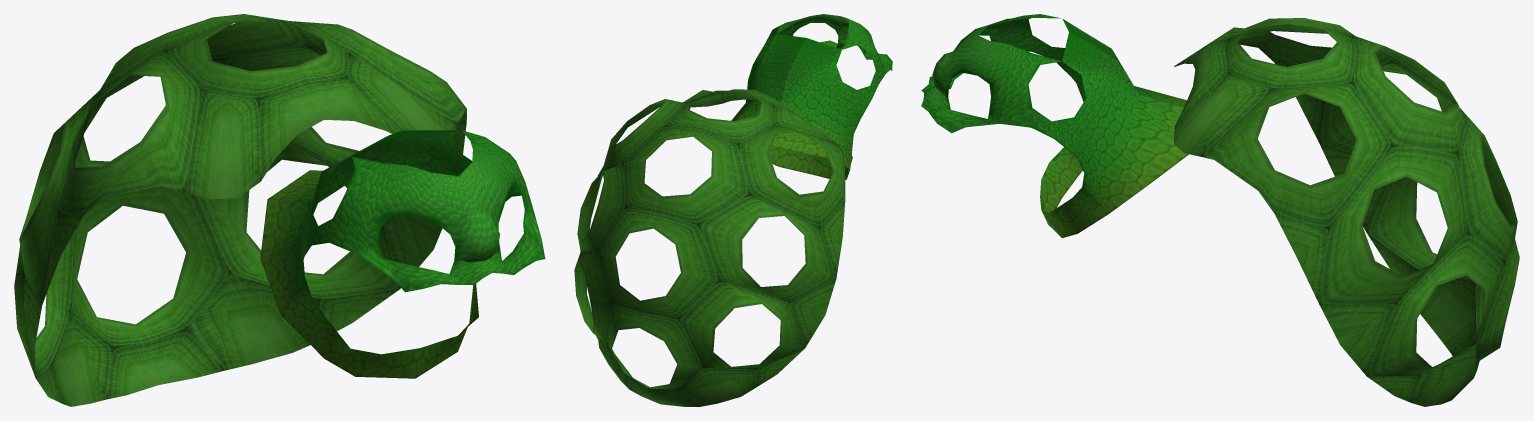
File: bowser1.obj
3 renders of one model, left to right at view 1: azimuth 30°, elevation 25°; view 2: azimuth 150°, elevation 25°; view 3: azimuth 270°, elevation 25°, orthographic. The views are drawn at different scales.
Visible parts, largest first — view 1: Joint_2_Object_0_SINGLE, Joint_3_Object_5_SINGLE; view 2: Joint_2_Object_0_SINGLE, Joint_3_Object_5_SINGLE; view 3: Joint_2_Object_0_SINGLE, Joint_3_Object_5_SINGLE.
Boxes of the visible parts, x1=… form: Joint_2_Object_0_SINGLE: x1=14, y1=14, x2=466, y2=406; Joint_3_Object_5_SINGLE: x1=260, y1=130, x2=545, y2=378; Joint_2_Object_0_SINGLE: x1=574, y1=89, x2=845, y2=406; Joint_3_Object_5_SINGLE: x1=731, y1=14, x2=892, y2=179; Joint_2_Object_0_SINGLE: x1=1174, y1=18, x2=1519, y2=406; Joint_3_Object_5_SINGLE: x1=921, y1=14, x2=1188, y2=238.
Size of the model in its own units: 13.45 by 13.61 by 21.1.
